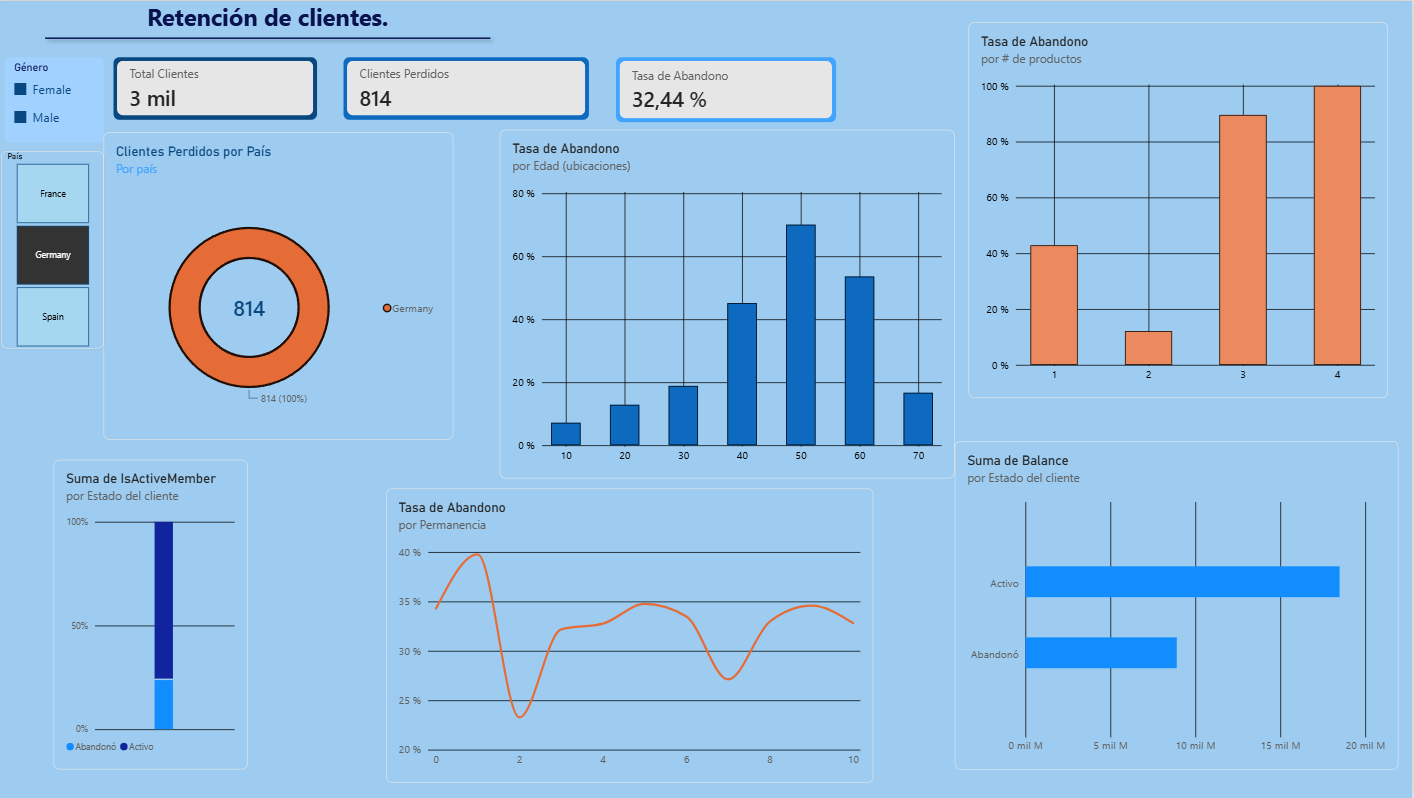

The dashboard page shown, as its layout file describes it:
{"tool":"powerbi","page":{"name":"Página 1","canvas":[1920,1080],"ordinal":0},"visuals":[{"type":"textbox","box":[10.3,0,716.3,57.6],"z":0},{"type":"shape","box":[58,0,621.6,100.9],"z":1000},{"type":"cardVisual","fields":{"Data":["_Medidas.Total Clientes"]},"box":[160.1,75.5,276.1,84.7],"z":2000},{"type":"cardVisual","fields":{"Data":["_Medidas.Clientes Perdidos"]},"box":[471.2,75.5,333.1,84.7],"z":3000},{"type":"cardVisual","fields":{"Data":["_Medidas.Tasa de Abandono"]},"box":[841.1,75.5,298.2,88.3],"z":4000},{"type":"slicer","fields":{"Values":["Churn_Modelling.Geography"]},"box":[6,204,139,268],"z":5000},{"type":"slicer","fields":{"Values":["Churn_Modelling.Gender"]},"box":[11,75.5,134.4,116],"z":6000},{"type":"donutChart","fields":{"Category":["Churn_Modelling.Geography"],"Y":["_Medidas.Clientes Perdidos"]},"box":[145.7,178.6,474.3,417.1],"z":7000},{"type":"clusteredColumnChart","fields":{"Category":["Churn_Modelling.Age (ubicaciones)"],"Y":["_Medidas.Tasa de Abandono"]},"box":[682.8,174.8,616.6,473],"z":8000},{"type":"barChart","fields":{"Category":["Churn_Modelling.Estado del cliente"],"Y":["Sum(Churn_Modelling.Balance)"]},"box":[1300,596,601.8,445.4],"z":9000},{"type":"clusteredColumnChart","fields":{"Category":["Churn_Modelling.NumOfProducts"],"Y":["_Medidas.Tasa de Abandono"]},"box":[1317.8,29.4,568.7,509.8],"z":9001},{"type":"hundredPercentStackedColumnChart","fields":{"Series":["Churn_Modelling.Estado del cliente"],"Y":["Sum(Churn_Modelling.IsActiveMember)"]},"box":[78,622,263.2,419.6],"z":9002},{"type":"lineChart","fields":{"Category":["Churn_Modelling.Tenure"],"Y":["_Medidas.Tasa de Abandono"]},"box":[528.2,660.7,660.7,399.4],"z":9003}]}

Visuals, with their boxes in screenshot pixels (x1, y1, x2, y2), scaled from the page's 1920x1080 canvas onto the 1414x798 screenshot:
textbox: pyautogui.locateOnScreen(8, 0, 535, 43)
shape: pyautogui.locateOnScreen(43, 0, 500, 75)
cardVisual - _Medidas.Total Clientes: pyautogui.locateOnScreen(118, 56, 321, 118)
cardVisual - _Medidas.Clientes Perdidos: pyautogui.locateOnScreen(347, 56, 592, 118)
cardVisual - _Medidas.Tasa de Abandono: pyautogui.locateOnScreen(619, 56, 839, 121)
slicer - Churn_Modelling.Geography: pyautogui.locateOnScreen(4, 151, 107, 349)
slicer - Churn_Modelling.Gender: pyautogui.locateOnScreen(8, 56, 107, 141)
donutChart - Churn_Modelling.Geography x _Medidas.Clientes Perdidos: pyautogui.locateOnScreen(107, 132, 457, 440)
clusteredColumnChart - Churn_Modelling.Age (ubicaciones) x _Medidas.Tasa de Abandono: pyautogui.locateOnScreen(503, 129, 957, 479)
barChart - Churn_Modelling.Estado del cliente x Sum(Churn_Modelling.Balance): pyautogui.locateOnScreen(957, 440, 1401, 769)
clusteredColumnChart - Churn_Modelling.NumOfProducts x _Medidas.Tasa de Abandono: pyautogui.locateOnScreen(971, 22, 1389, 398)
hundredPercentStackedColumnChart - Churn_Modelling.Estado del cliente x Sum(Churn_Modelling.IsActiveMember): pyautogui.locateOnScreen(57, 460, 251, 770)
lineChart - Churn_Modelling.Tenure x _Medidas.Tasa de Abandono: pyautogui.locateOnScreen(389, 488, 876, 783)
